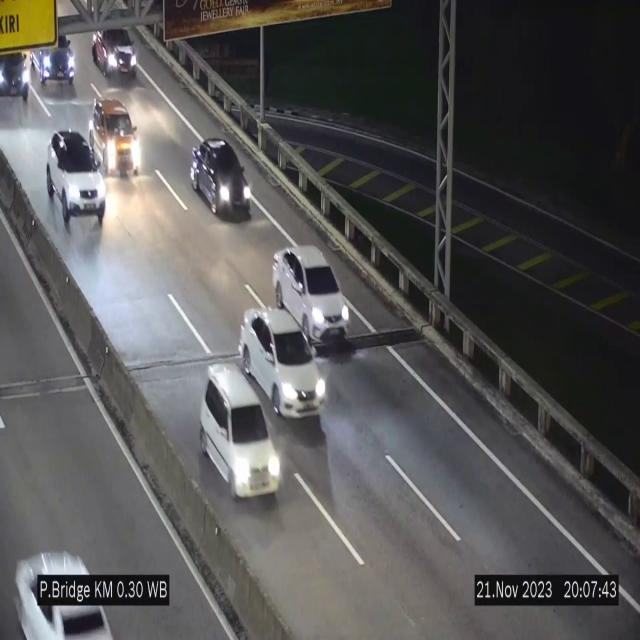Car: (200, 366, 280, 499), (239, 309, 326, 417), (272, 246, 352, 346), (45, 128, 106, 230), (189, 136, 252, 226), (85, 92, 141, 182), (89, 29, 140, 83)
